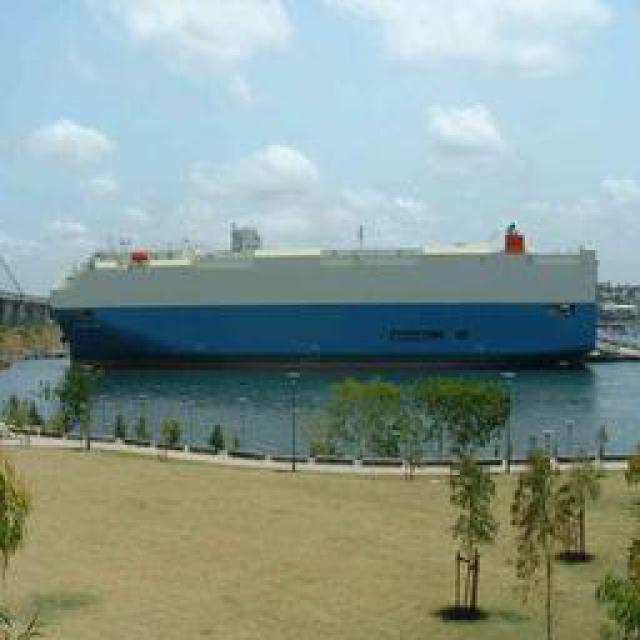Ship: (40, 223, 605, 364)
